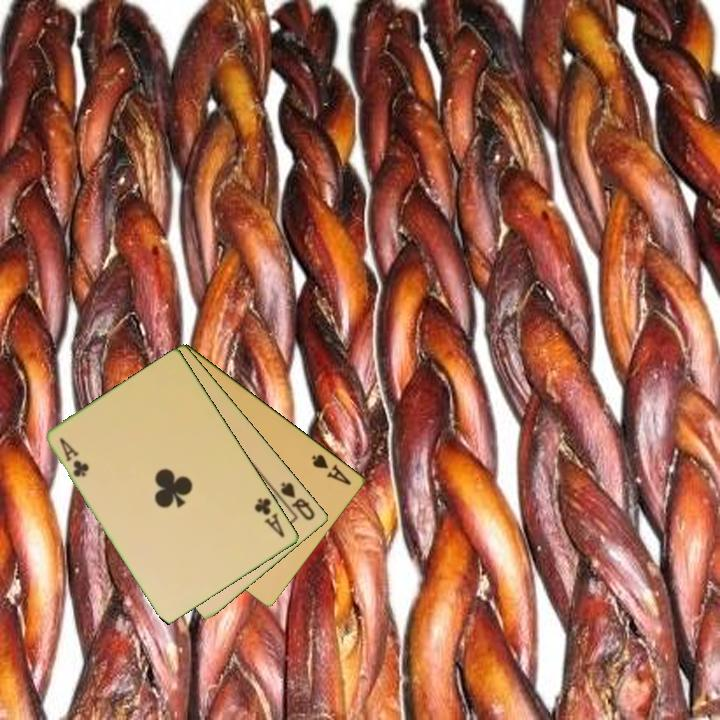Ac: (251, 494, 288, 541), (56, 434, 93, 480)
As: (308, 451, 355, 488)
Qs: (277, 478, 318, 523)
